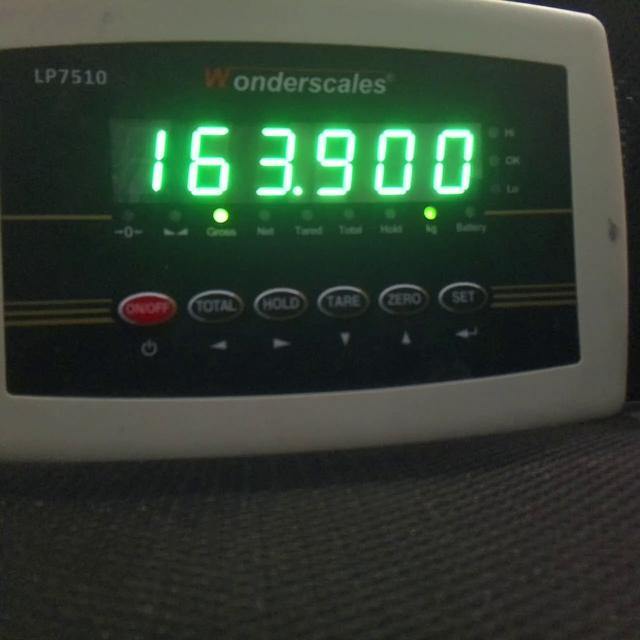.: (292, 186, 302, 196)
0: (374, 128, 416, 195), (433, 128, 473, 194)
1: (150, 129, 167, 192)
3: (257, 124, 296, 201)
6: (187, 125, 231, 196)
9: (315, 128, 356, 196)
